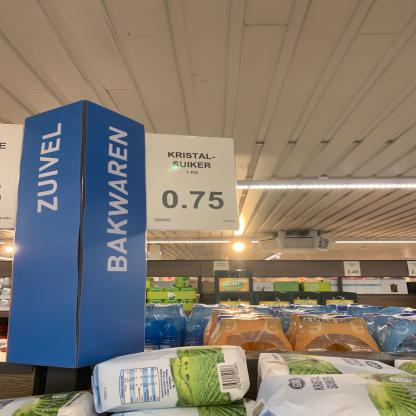prtg: (147, 134, 241, 233), (345, 262, 363, 277)
